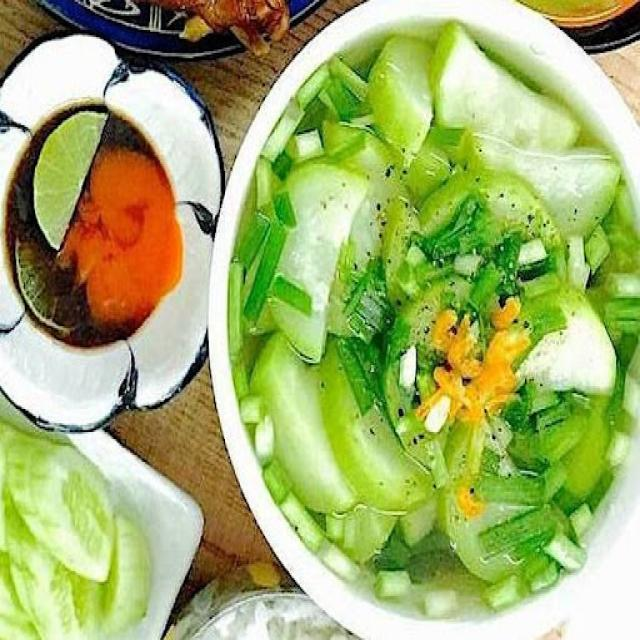canh bau: (229, 25, 639, 605)
dua leo: (0, 418, 150, 638)
